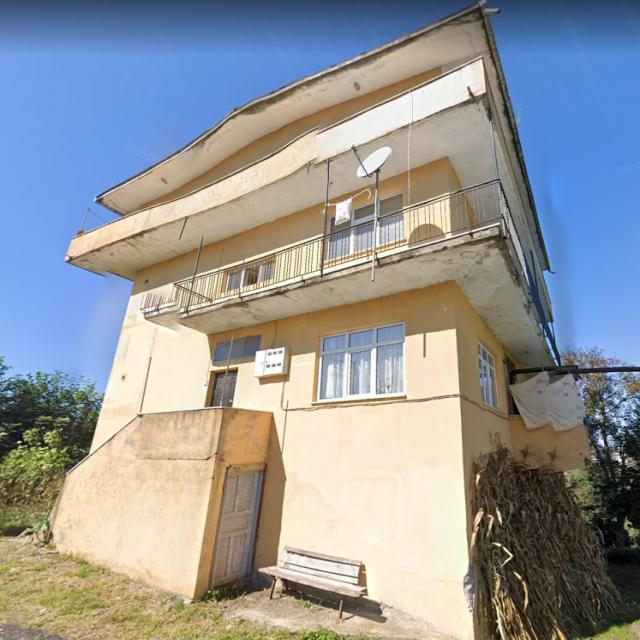Building: (45, 0, 589, 639)
